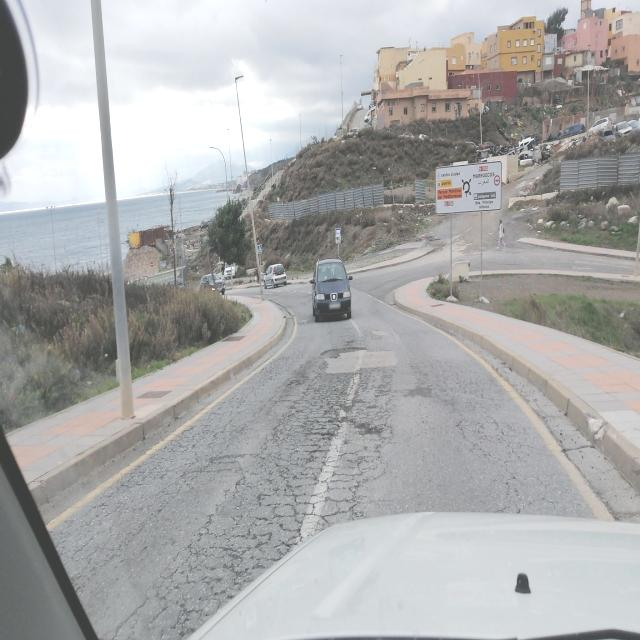car: (311, 258, 352, 322), (198, 272, 227, 293), (264, 263, 288, 288)
